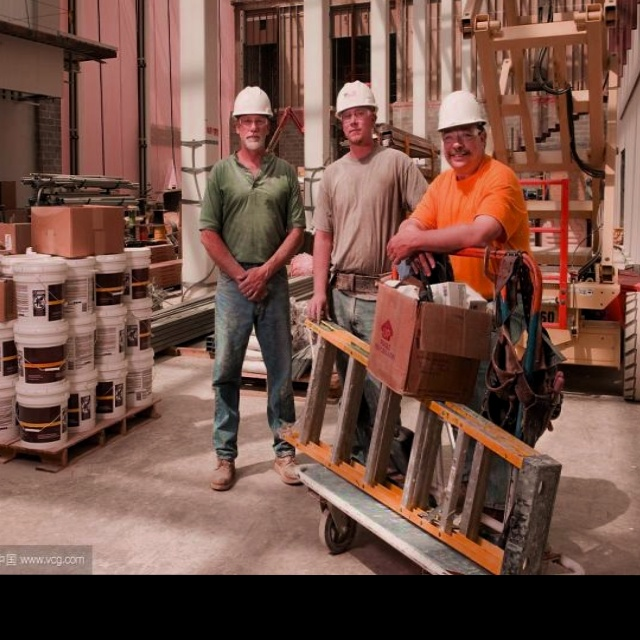Con_Casco: (436, 90, 488, 169), (334, 81, 379, 144), (230, 86, 272, 146)
Sin_Chaleco: (327, 149, 405, 275), (209, 155, 295, 267)
